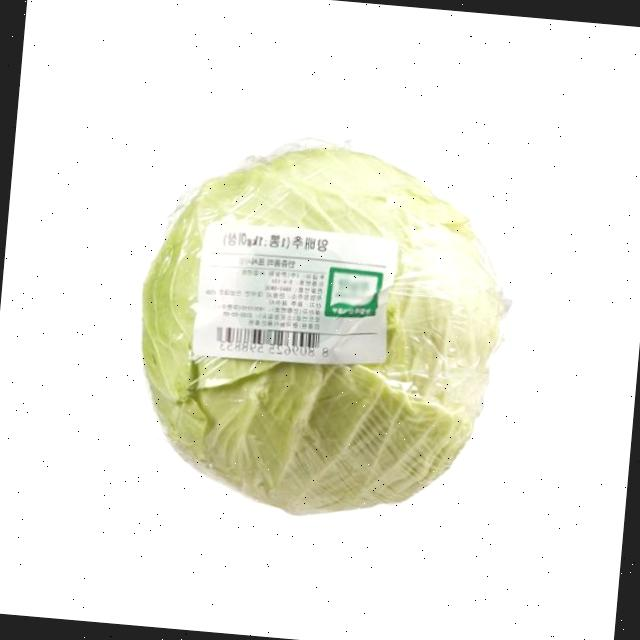cabbage: (133, 142, 510, 540)
